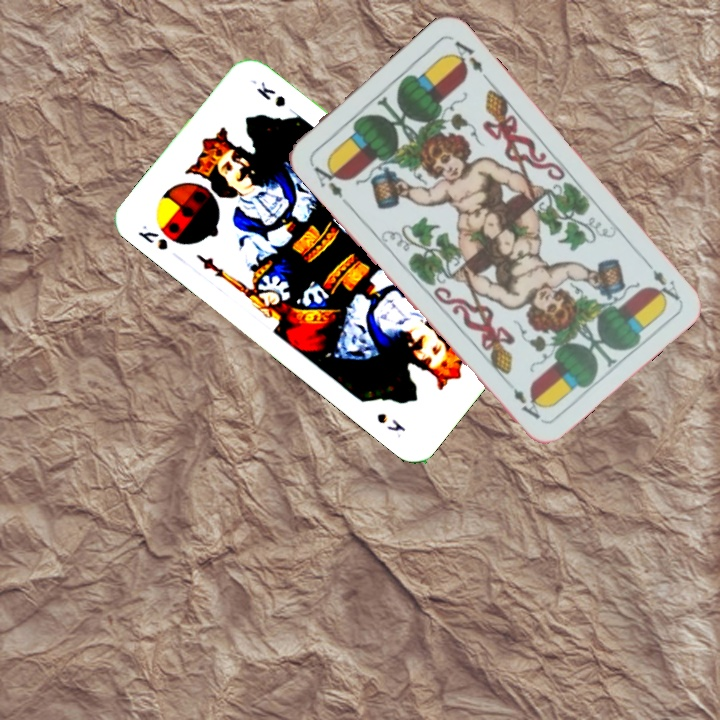EA: (306, 157, 351, 207), (639, 254, 682, 305)
SK: (133, 221, 171, 253)
